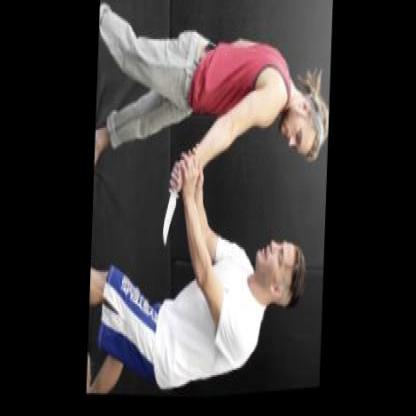knife: (156, 153, 184, 254)
